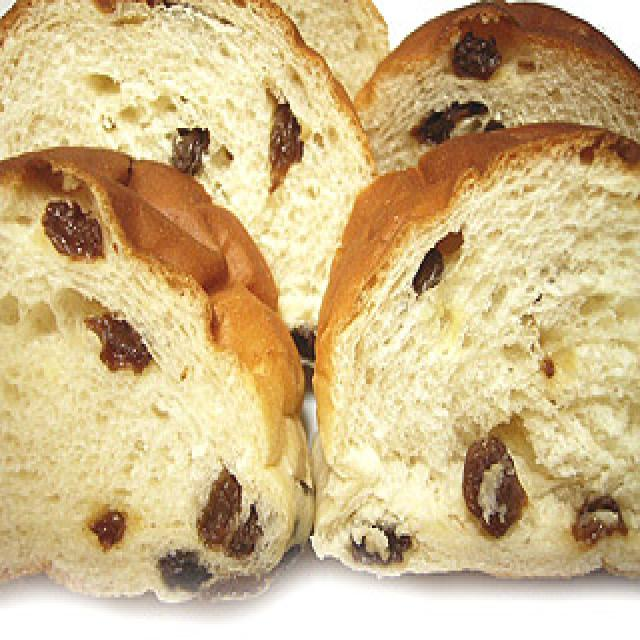面包点心: (0, 0, 640, 587)
